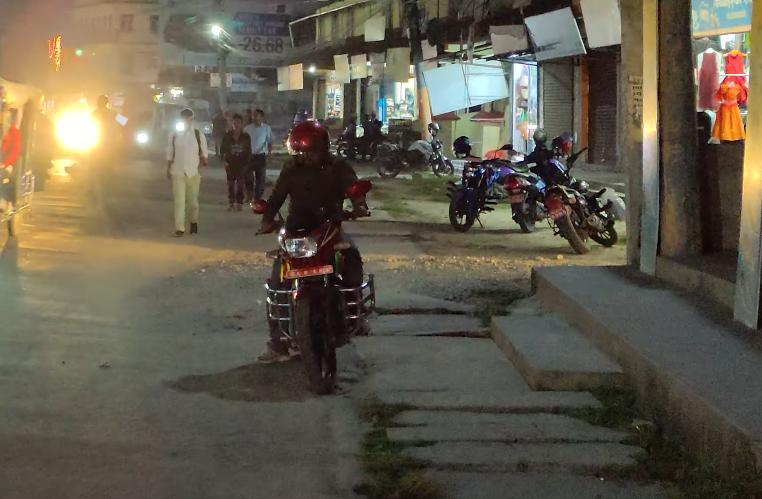bike: (247, 180, 384, 392)
